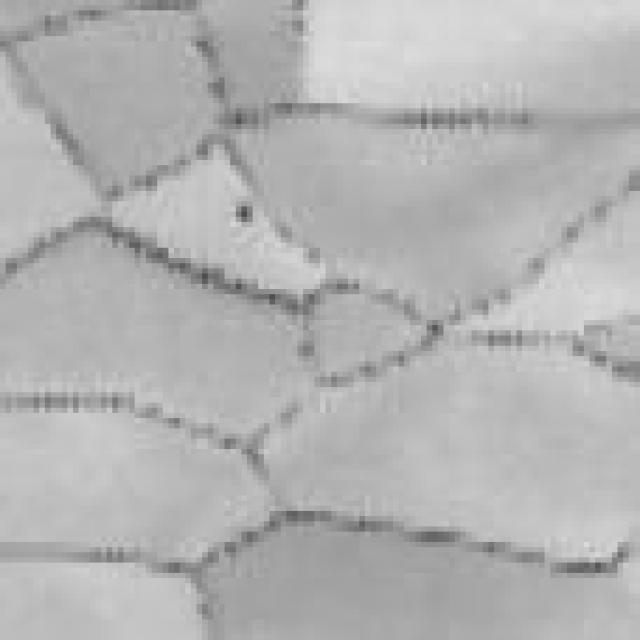good_void: (236, 201, 247, 222)
